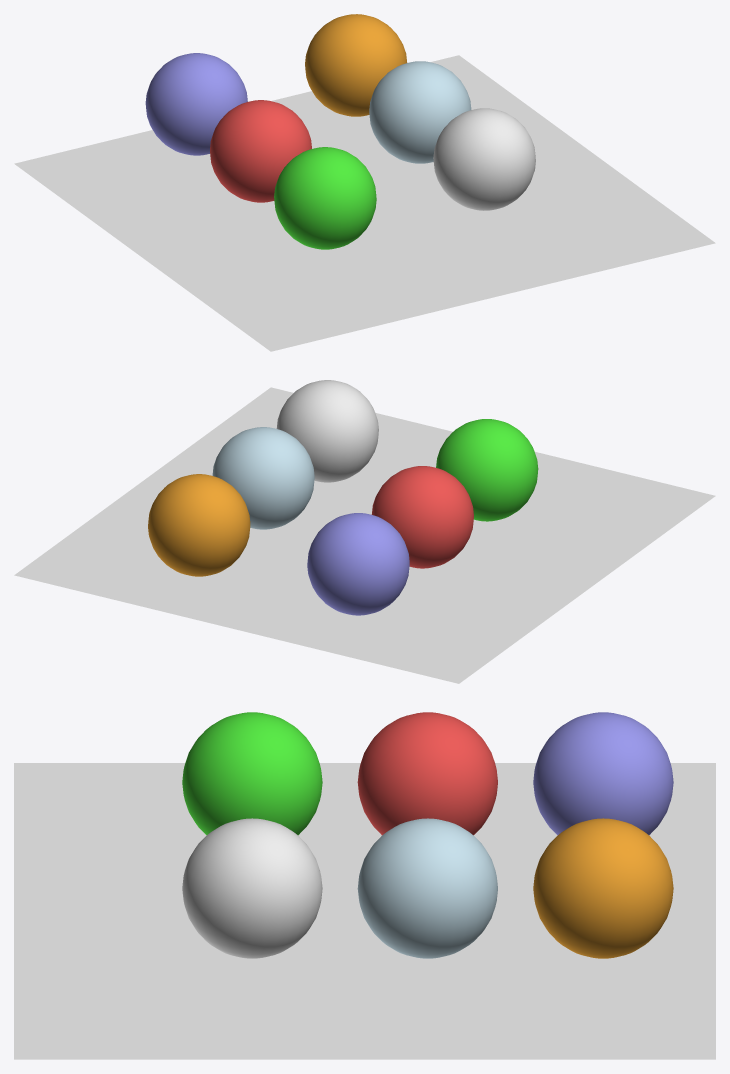
File: ball.glb
The picture shows the model from 3 angles, top to bottom: view 1: azimuth 30°, elevation 25°; view 2: azimuth 150°, elevation 25°; view 3: azimuth 270°, elevation 25°; orthographic projection. The views are drawn at different scales.
Parts seen in each view (by area): view 1: Plane, Sphere.002, Sphere.003, Sphere.005, Sphere.001, Sphere, Sphere.004; view 2: Plane, Sphere, Sphere.005, Sphere.002, Sphere.004, Sphere.003, Sphere.001; view 3: Plane, Sphere, Sphere.002, Sphere.001, Sphere.003, Sphere.005, Sphere.004.
Boxes of the visible parts, x1,y1,x2,y2 form: Plane: (14, 55, 715, 351); Sphere.002: (433, 108, 535, 210); Sphere.003: (274, 147, 376, 249); Sphere.005: (145, 53, 247, 155); Sphere.001: (369, 61, 471, 163); Sphere: (305, 14, 407, 116); Sphere.004: (210, 100, 311, 202); Plane: (14, 387, 715, 683); Sphere: (148, 474, 250, 576); Sphere.005: (307, 513, 409, 615); Sphere.002: (276, 380, 378, 482); Sphere.004: (371, 466, 473, 568); Sphere.003: (436, 419, 538, 521); Sphere.001: (212, 427, 314, 529); Plane: (14, 763, 715, 1059); Sphere: (533, 818, 673, 958); Sphere.002: (182, 818, 322, 958); Sphere.001: (357, 818, 497, 958); Sphere.003: (182, 712, 322, 835); Sphere.005: (533, 712, 673, 835); Sphere.004: (357, 712, 497, 835).
Size of the model in its own units: 2 by 0.4362 by 2.
